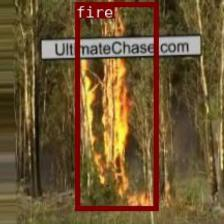fire: (75, 2, 158, 210)
